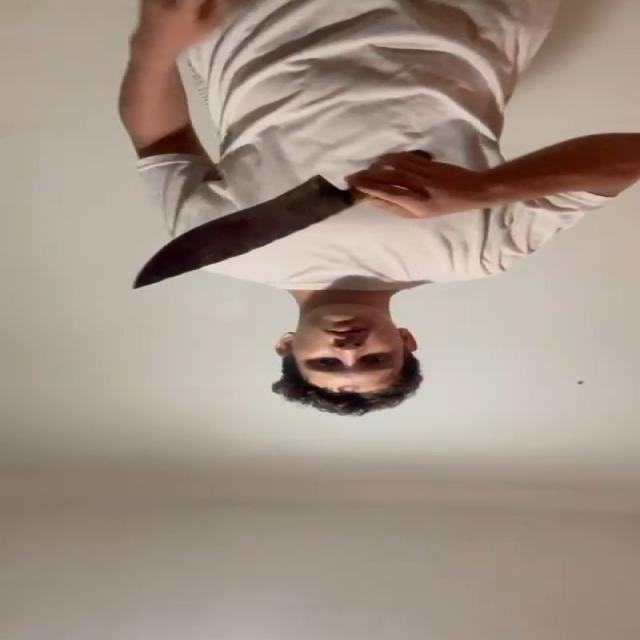knife: (131, 176, 351, 289)
